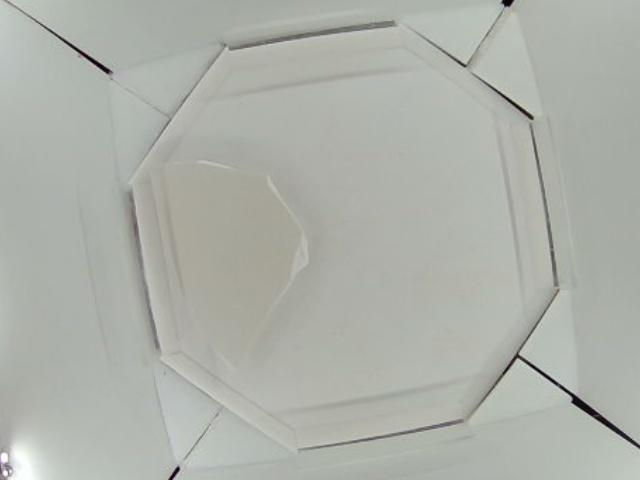China: (166, 156, 308, 374)
